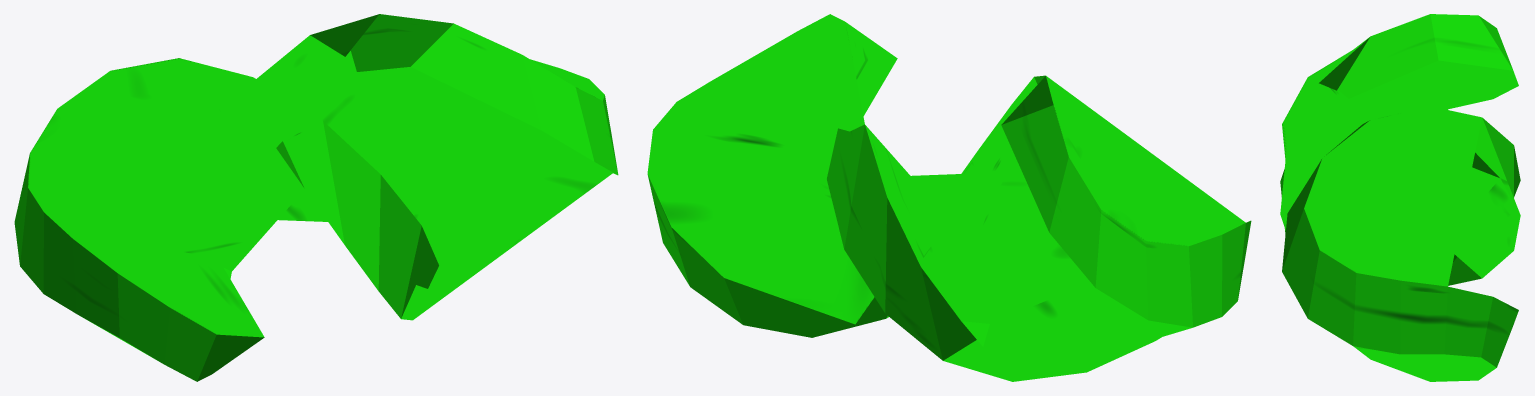
File: scream_woman_wave.glb
3 views of the same model, side by side, from view 1: azimuth 30°, elevation 25°; view 2: azimuth 150°, elevation 25°; view 3: azimuth 270°, elevation 25° (orthographic). The views are drawn at different scales.
Visible parts, largest first — view 1: green sparkle_woman; view 2: green sparkle_woman; view 3: green sparkle_woman.
Part boxes in pixels (box(x1,y1,x2,y2)): green sparkle_woman: box(14, 14, 618, 381); green sparkle_woman: box(647, 14, 1251, 381); green sparkle_woman: box(1280, 14, 1520, 381).
Bounding box in the file's own units: 15.53 × 7.94 × 6.6.
1 material, 1 textured.
